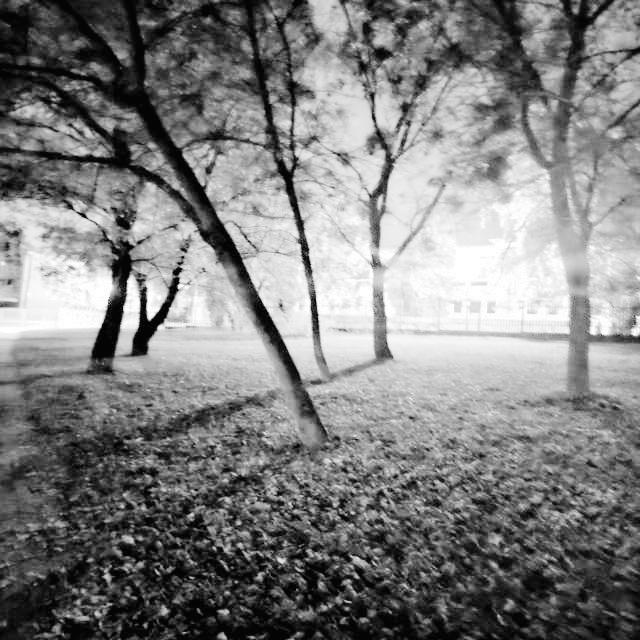Light: (461, 266, 475, 330)
Tree: (86, 62, 352, 465), (509, 11, 623, 407), (62, 132, 195, 383), (342, 16, 427, 375)
